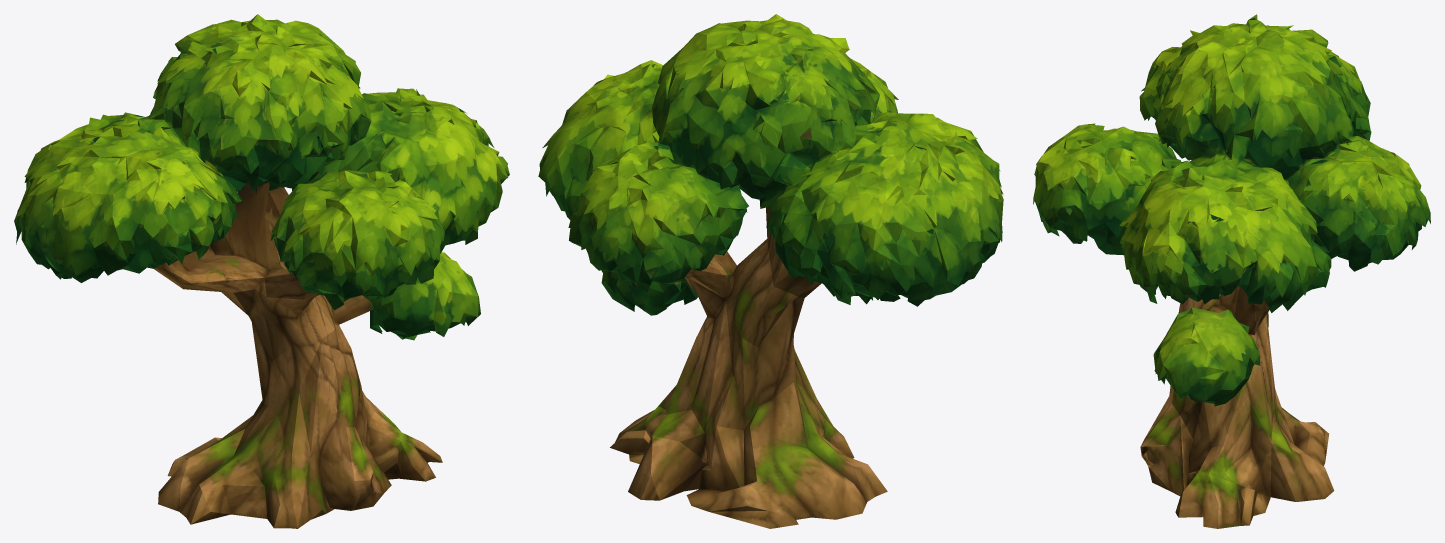
The model's file is elder-canopy-tree.glb.
3 views of the same model, side by side, from view 1: azimuth 30°, elevation 25°; view 2: azimuth 150°, elevation 25°; view 3: azimuth 270°, elevation 25° (orthographic). The views are drawn at different scales.
Visible parts, largest first — view 1: output_unwrapped; view 2: output_unwrapped; view 3: output_unwrapped.
Boxes of the visible parts, x1,y1,x2,y2 form: output_unwrapped: (14,14,509,528); output_unwrapped: (538,14,1003,528); output_unwrapped: (1033,14,1430,528).
Size of the model in its own units: 5.08 by 5 by 4.21.
Materials: 1 (1 with a texture image).
